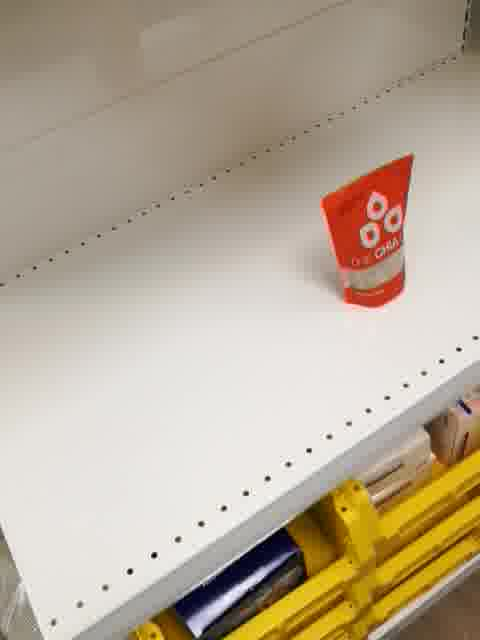whitechia: (318, 151, 418, 310)
